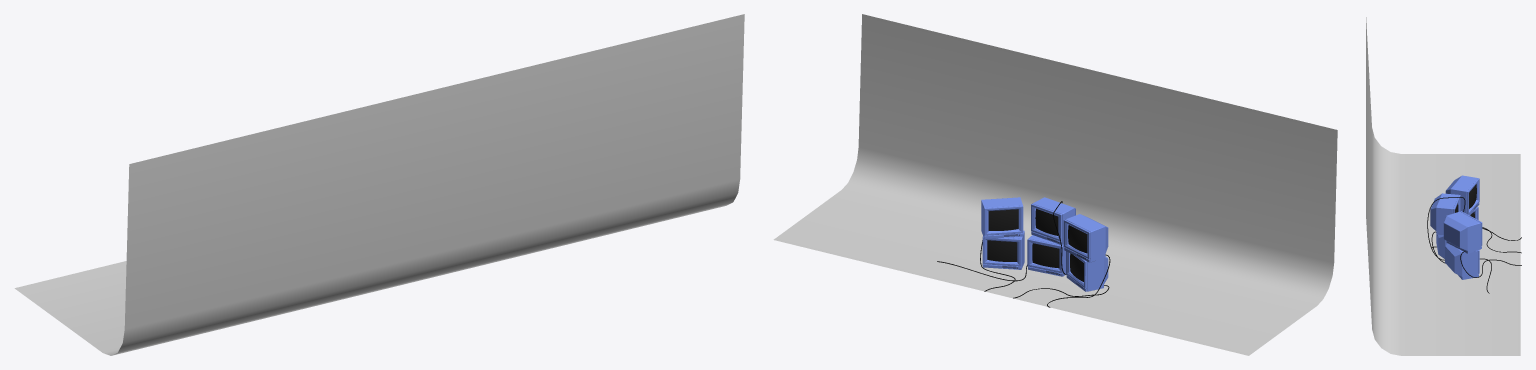
Rendered from AcidFlux_TVComposition.fbx.
3 renders of one model, left to right at view 1: azimuth 30°, elevation 25°; view 2: azimuth 150°, elevation 25°; view 3: azimuth 270°, elevation 25°, orthographic. The views are drawn at different scales.
Parts seen in each view (by area): view 1: Plane; view 2: Plane, Base.005, Base.003, Base.004, Base.002, Base, Base.001, Screen.001, Screen.003, Screen, Screen.004; view 3: Plane, Base.003, Base.001, Base.004, Base.005, Base, BézierCurve.002, Screen.005.
Boxes of the visible parts, <box> form: Plane: <box>14,14,744,355</box>; Plane: <box>773,14,1337,355</box>; Base.005: <box>1063,214,1108,262</box>; Base.003: <box>981,197,1023,238</box>; Base.004: <box>1031,197,1075,244</box>; Base.002: <box>1066,251,1108,291</box>; Base: <box>1027,235,1065,276</box>; Base.001: <box>982,230,1024,269</box>; Screen.001: <box>987,240,1017,261</box>; Screen.003: <box>988,209,1018,230</box>; Screen: <box>1032,243,1059,268</box>; Screen.004: <box>1035,208,1058,235</box>; Plane: <box>1366,17,1520,355</box>; Base.003: <box>1443,211,1482,253</box>; Base.001: <box>1445,243,1479,279</box>; Base.004: <box>1430,193,1460,234</box>; Base.005: <box>1445,175,1479,215</box>; Base: <box>1436,234,1446,258</box>; BézierCurve.002: <box>1427,197,1465,260</box>; Screen.005: <box>1469,184,1476,208</box>.
Bounding box in the file's own units: 2776 × 900 × 906.
